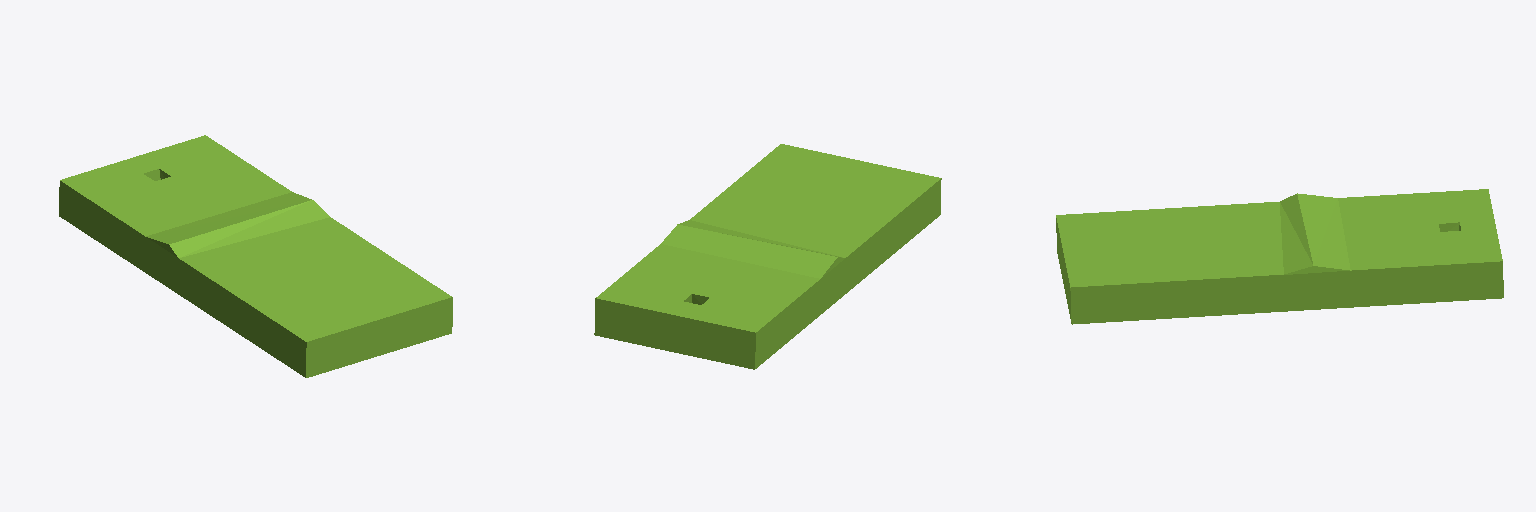
Rendered from model-triangulated.obj.
3 renders of one model, left to right at view 1: azimuth 30°, elevation 25°; view 2: azimuth 150°, elevation 25°; view 3: azimuth 270°, elevation 25°, orthographic.
Visible parts, largest first — view 1: group[number redacted]; view 2: group[number redacted]; view 3: group[number redacted].
Boxes of the visible parts, <box> form: group[number redacted]: <box>59,135,452,377</box>; group[number redacted]: <box>594,144,941,369</box>; group[number redacted]: <box>1056,189,1503,324</box>.
Size of the model in its own units: 0.6663 by 0.1792 by 1.4.